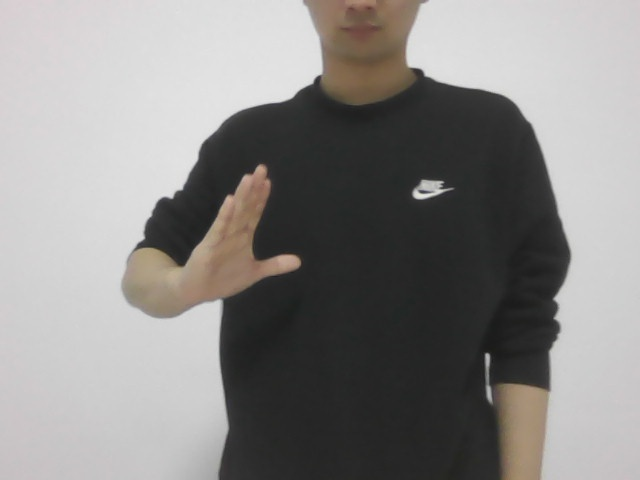morning: (166, 154, 315, 316)
